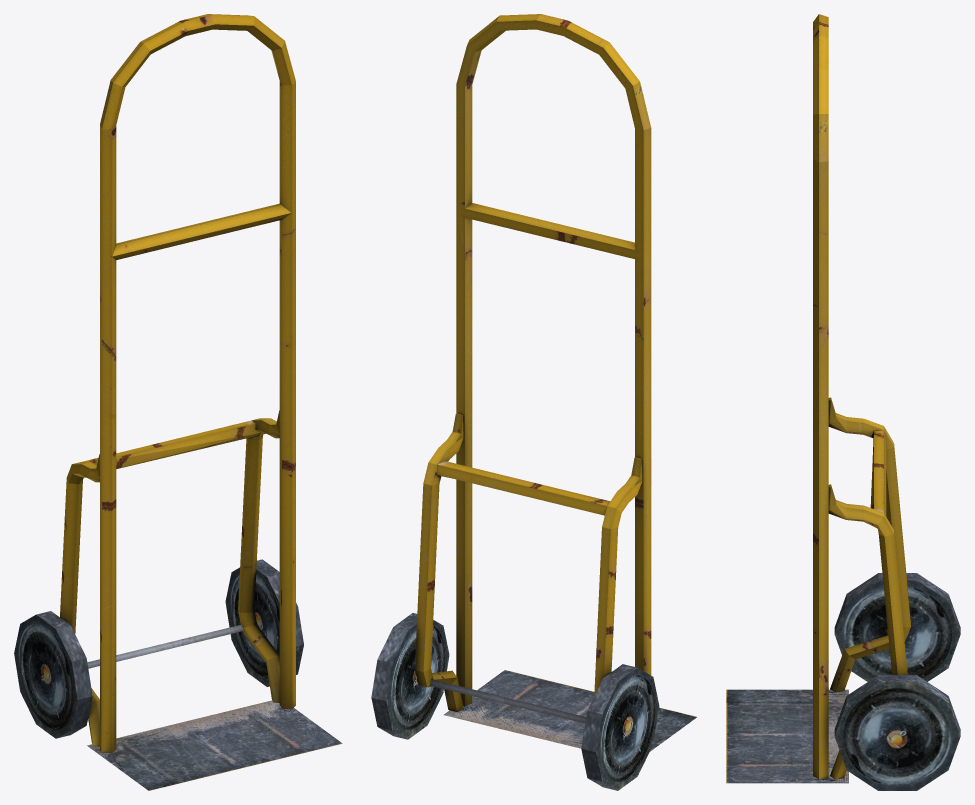
The model's file is trans2.fbx.
3 renders of one model, left to right at view 1: azimuth 30°, elevation 25°; view 2: azimuth 150°, elevation 25°; view 3: azimuth 270°, elevation 25°, orthographic.
Visible parts, largest first — view 1: trans2_Layer1; view 2: trans2_Layer1; view 3: trans2_Layer1.
Boxes of the visible parts, x1,y1,x2,y2 form: trans2_Layer1: (14,14,342,790); trans2_Layer1: (371,14,696,790); trans2_Layer1: (726,14,960,790).
Size of the model in its own units: 30.19 by 91.14 by 27.36.
Materials: 1 (1 with a texture image).
